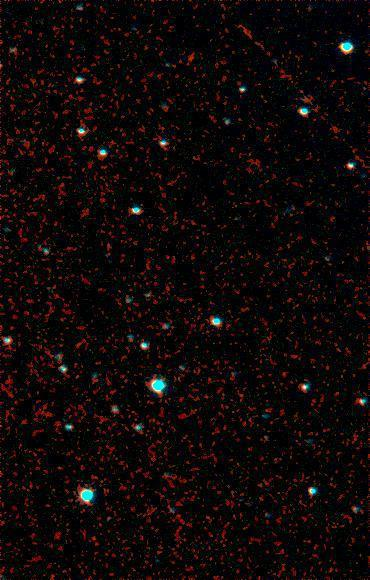star: (174, 44, 204, 74)
